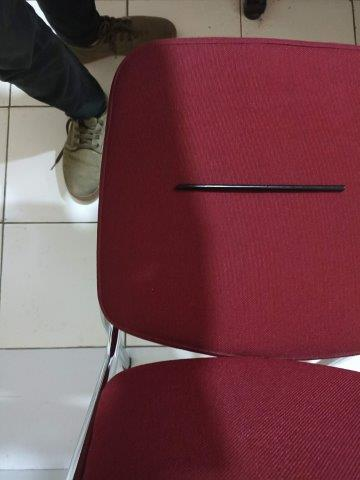sedotan: (176, 184, 345, 192)
